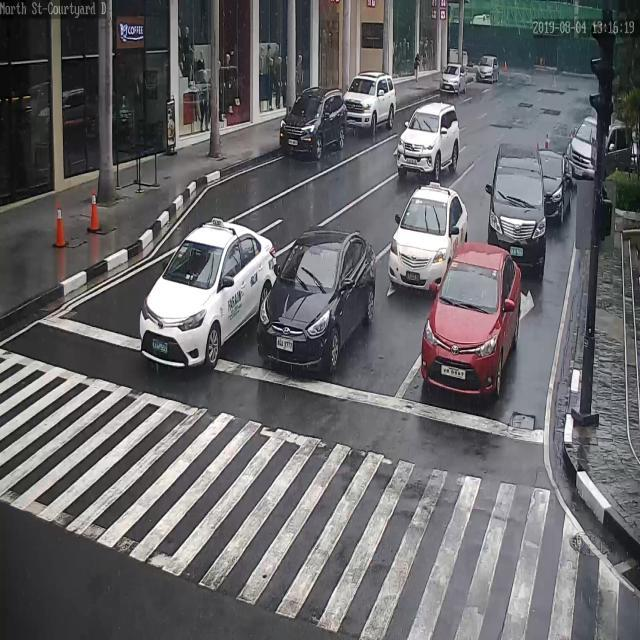car: (140, 221, 276, 371), (258, 229, 377, 378), (420, 242, 522, 398), (387, 182, 470, 293), (279, 86, 347, 159), (397, 102, 459, 178), (344, 70, 397, 131), (538, 146, 570, 227), (441, 61, 467, 94), (476, 54, 499, 83)
van: (487, 140, 549, 273), (566, 116, 632, 179)
